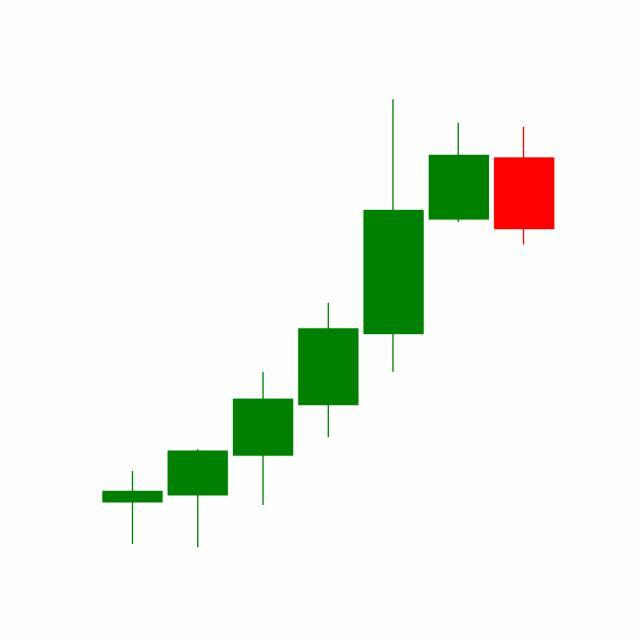Hikkake Pattern: (229, 100, 555, 511)
